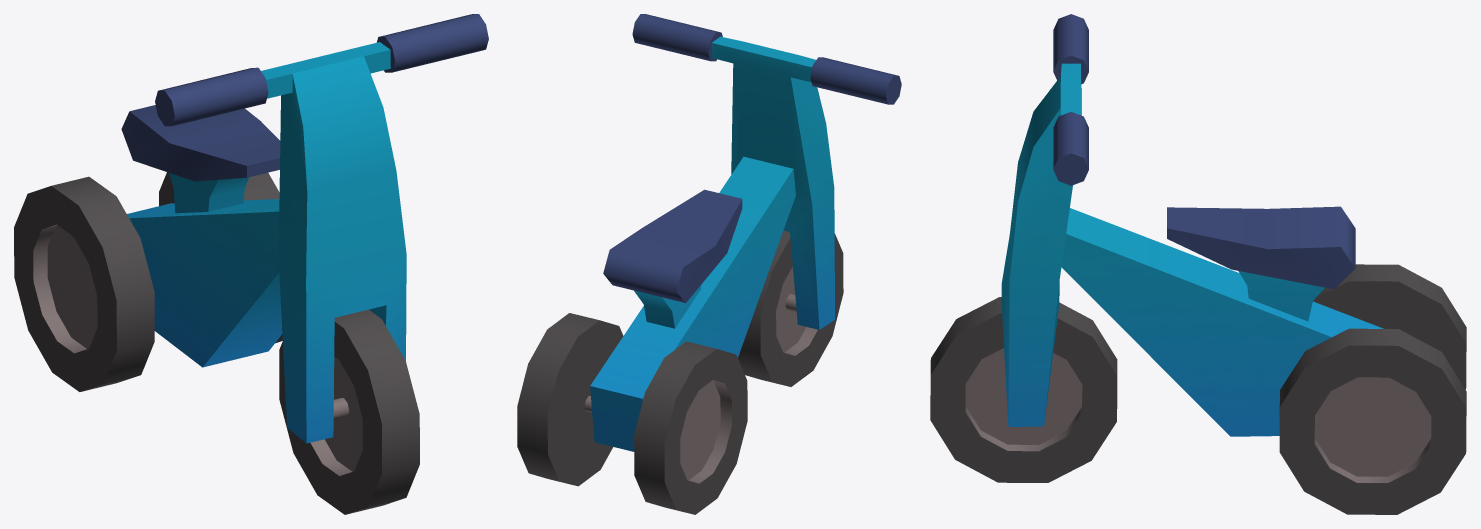
The model's file is SM_Kid_Push_Bicycle_04.fbx.
The picture shows the model from 3 angles, left to right: view 1: azimuth 30°, elevation 25°; view 2: azimuth 150°, elevation 25°; view 3: azimuth 270°, elevation 25°; orthographic projection. The views are drawn at different scales.
Parts seen in each view (by area): view 1: SM_Kid_Push_Bicycle_04; view 2: SM_Kid_Push_Bicycle_04; view 3: SM_Kid_Push_Bicycle_04.
Boxes of the visible parts, <box> form: SM_Kid_Push_Bicycle_04: <box>14,14,488,514</box>; SM_Kid_Push_Bicycle_04: <box>517,14,901,514</box>; SM_Kid_Push_Bicycle_04: <box>930,14,1466,514</box>.
Size of the model in its own units: 49.61 by 64.8 by 80.67.
